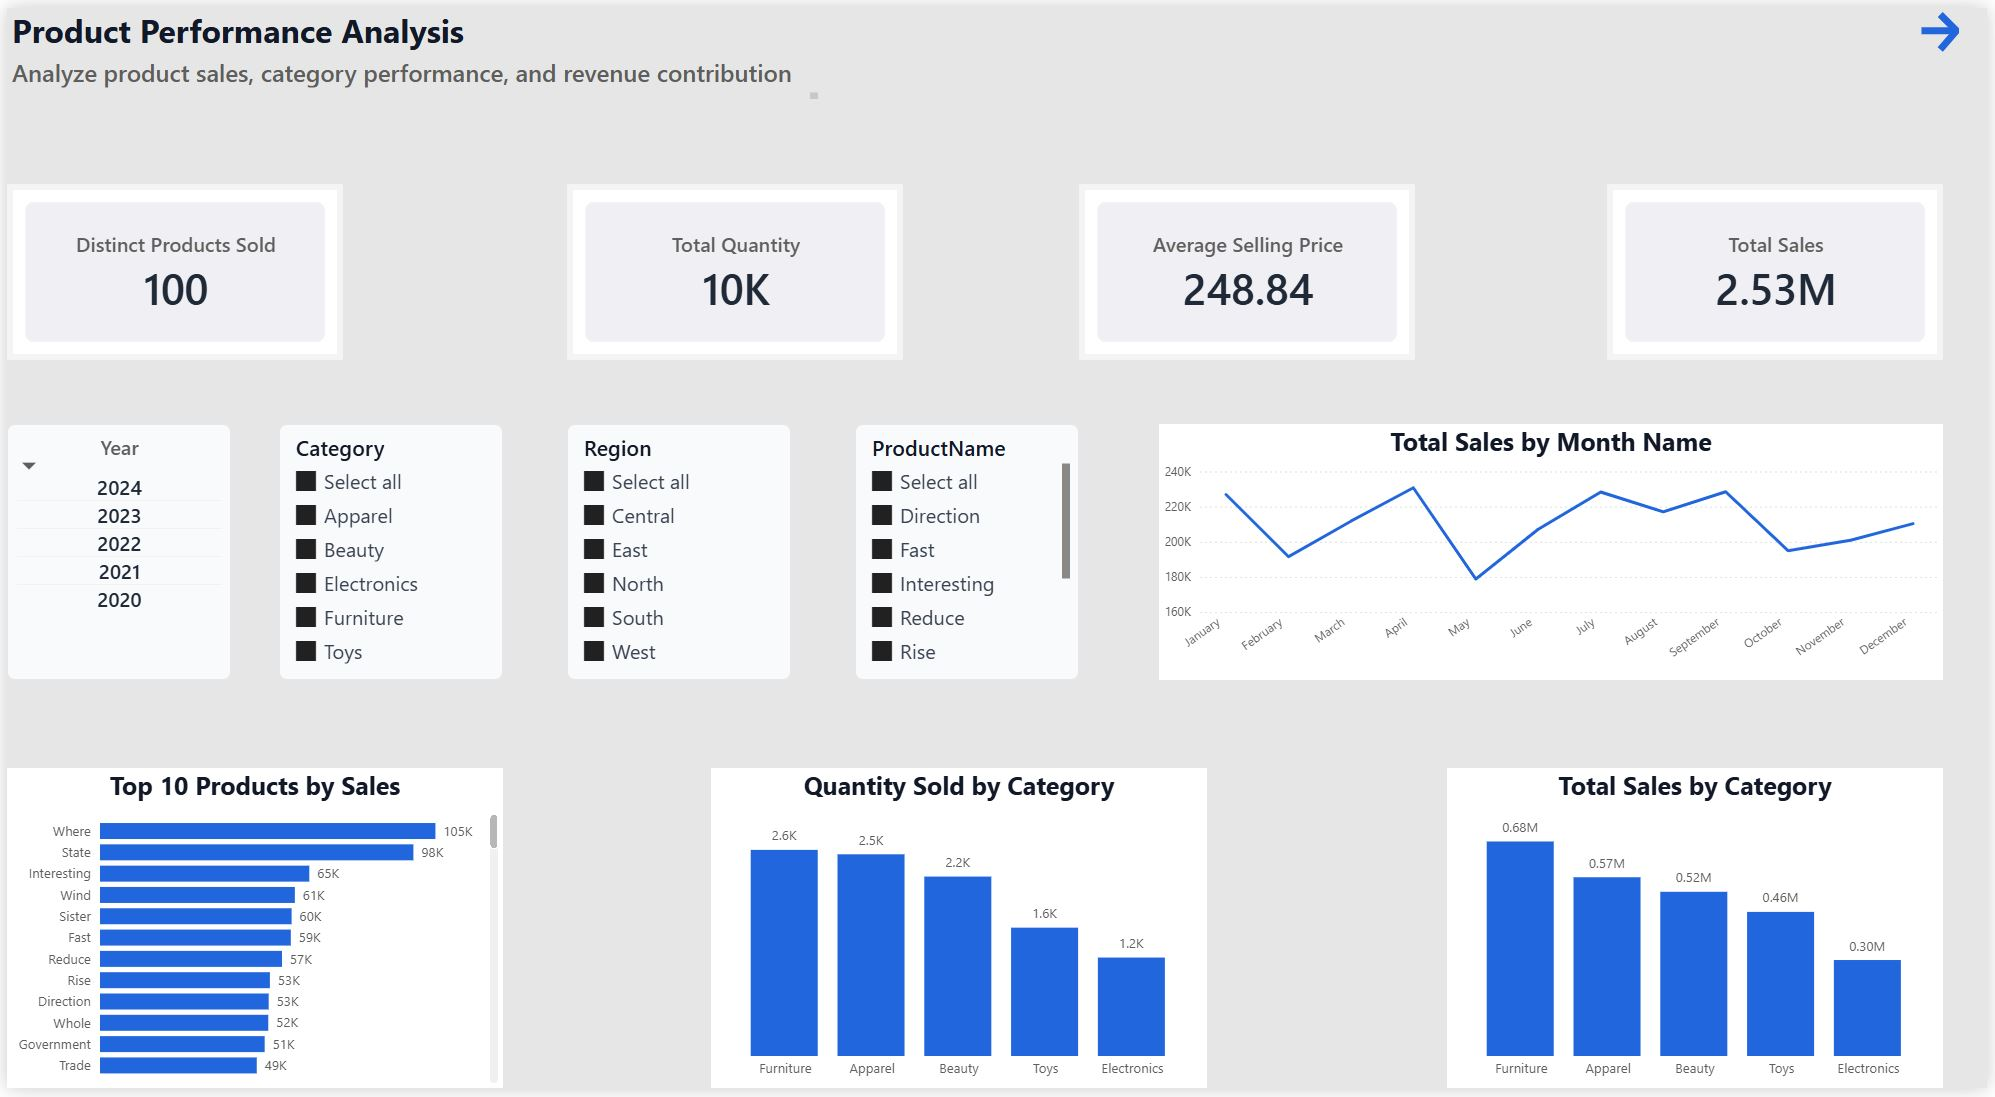

The dashboard page shown, as its layout file describes it:
{"tool":"powerbi","page":{"name":"Product Analysis","canvas":[1980,1080],"ordinal":3},"visuals":[{"type":"textbox","title":"Product Performance Analysis","box":[0,0,816,96],"z":0},{"type":"cardVisual","fields":{"Data":["Measures (2).Distinct Products Sold"]},"box":[0,176,336,176],"z":1000},{"type":"cardVisual","fields":{"Data":["Measures (2).Total Quantity"]},"box":[560,176,336,176],"z":2000},{"type":"cardVisual","fields":{"Data":["Measures (2).Average Selling Price"]},"box":[1072,176,336,176],"z":3000},{"type":"cardVisual","fields":{"Data":["Measures (2).Total Sales"]},"box":[1600,176,336,176],"z":4000},{"type":"clusteredBarChart","title":"Top 10 Products by Sales","fields":{"Category":["Products.ProductName"],"Y":["Measures (2).Total Sales"]},"box":[0,760,496,320],"z":5000},{"type":"clusteredColumnChart","fields":{"Category":["Products.Category"],"Y":["Measures (2).Total Sales"]},"box":[1440,760,496,320],"z":6000},{"type":"clusteredColumnChart","title":"Quantity Sold by Category","fields":{"Category":["Products.Category"],"Y":["Measures (2).Total Quantity"]},"box":[704,760,496,320],"z":7000},{"type":"lineChart","fields":{"Y":["Measures (2).Total Sales"],"Category":["Date.Month Name"]},"box":[1152,416,784,256],"z":8000},{"type":"tableEx","fields":{"Values":["Date.Year"]},"box":[0,416,224,256],"z":9000},{"type":"slicer","fields":{"Values":["Products.Category"]},"box":[272,416,224,256],"z":10000},{"type":"slicer","fields":{"Values":["Customers.Region"]},"box":[560,416,224,256],"z":11000},{"type":"slicer","fields":{"Values":["Products.ProductName"]},"box":[848,416,224,256],"z":12000},{"type":"actionButton","box":[1884,0,96,48],"z":12001}]}

Visuals, with their boxes in screenshot pixels (x1, y1, x2, y2), scaled from the page's 1980x1080 canvas onto the 1995x1097 screenshot:
"Product Performance Analysis" textbox: 0/0/822/98
cardVisual - Measures (2).Distinct Products Sold: 0/179/339/358
cardVisual - Measures (2).Total Quantity: 564/179/903/358
cardVisual - Measures (2).Average Selling Price: 1080/179/1419/358
cardVisual - Measures (2).Total Sales: 1612/179/1951/358
"Top 10 Products by Sales" clusteredBarChart: 0/772/500/1096
clusteredColumnChart - Products.Category x Measures (2).Total Sales: 1451/772/1951/1096
"Quantity Sold by Category" clusteredColumnChart: 709/772/1209/1096
lineChart - Measures (2).Total Sales x Date.Month Name: 1161/423/1951/683
tableEx - Date.Year: 0/423/226/683
slicer - Products.Category: 274/423/500/683
slicer - Customers.Region: 564/423/790/683
slicer - Products.ProductName: 854/423/1080/683
actionButton: 1898/0/1994/49
